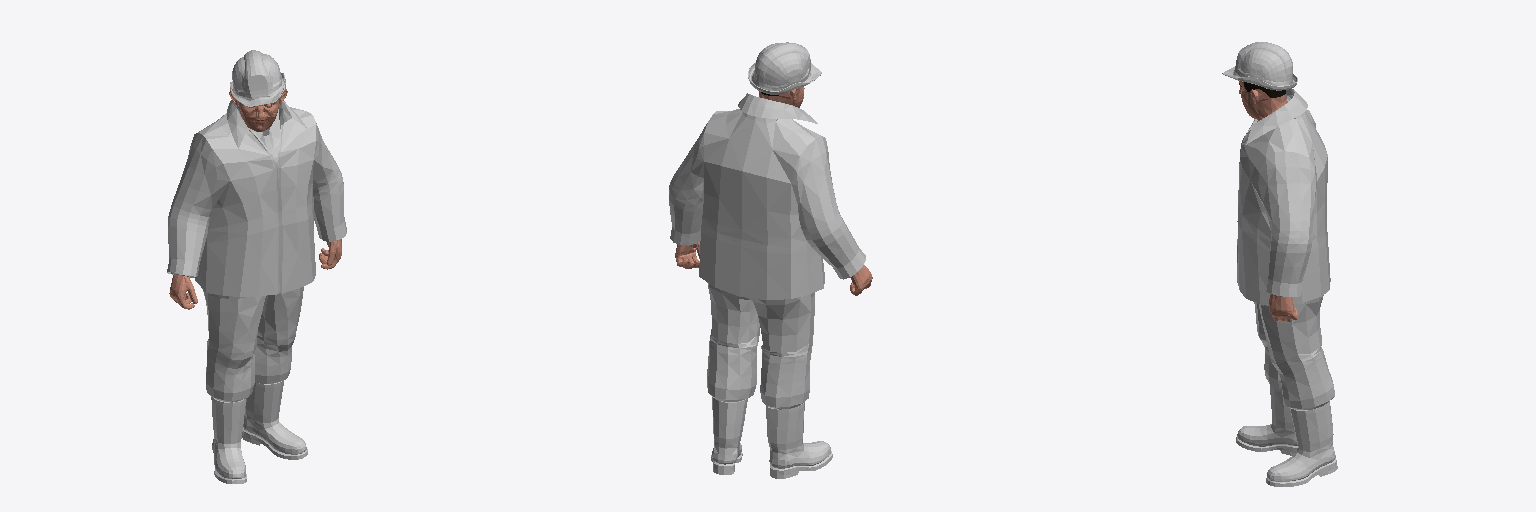
The model's file is human.obj.
3 views of the same model, side by side, from view 1: azimuth 30°, elevation 25°; view 2: azimuth 150°, elevation 25°; view 3: azimuth 270°, elevation 25° (orthographic).
Visible parts, largest first — view 1: skpUX7NTu_; view 2: skpUX7NTu_; view 3: skpUX7NTu_.
Boxes of the visible parts, box(x1,y1,x2,y2) form: skpUX7NTu_: box(167, 50, 346, 483); skpUX7NTu_: box(669, 42, 872, 478); skpUX7NTu_: box(1222, 42, 1337, 486).
Size of the model in its own units: 0.9074 by 1.97 by 0.4959.